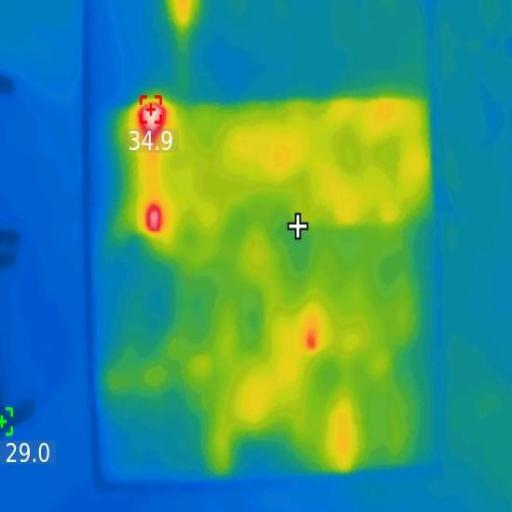hotspot: (138, 104, 168, 138), (143, 204, 166, 234), (304, 328, 322, 354)
